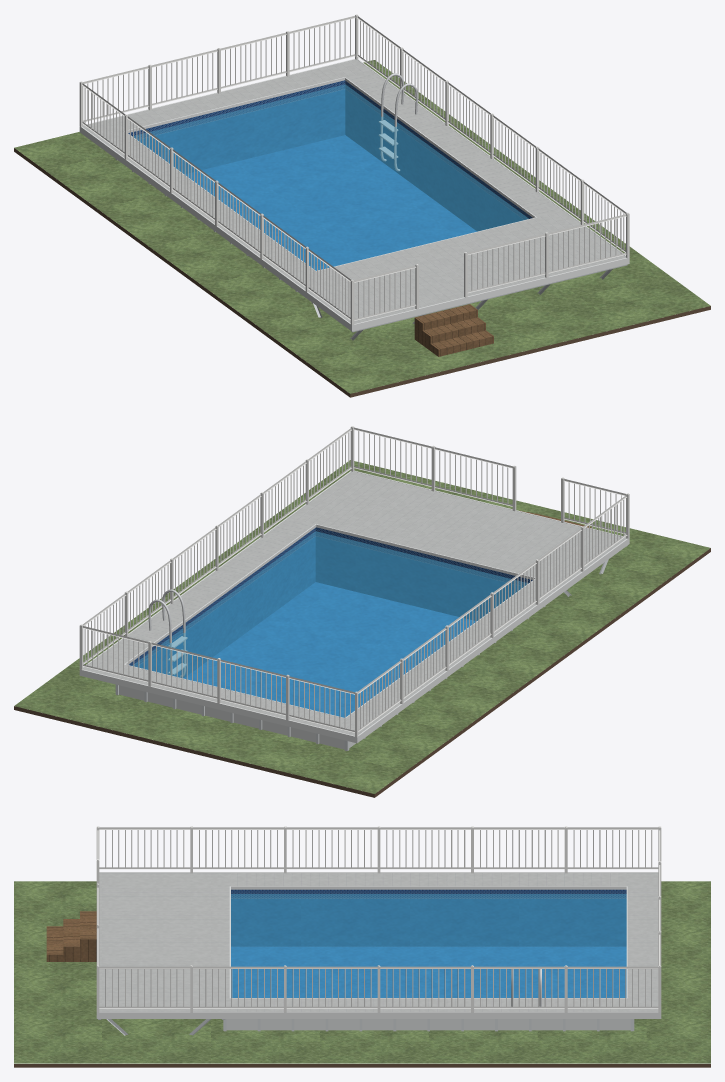
The model's file is kayak-pool-16x24-white-end-rec-fence.6da46cdbc4.glb.
3 views of the same model, one above another, from view 1: azimuth 30°, elevation 25°; view 2: azimuth 150°, elevation 25°; view 3: azimuth 270°, elevation 25° (orthographic). The views are drawn at different scales.
Visible parts, largest first — view 1: ground, water, deck, fence, liner_floor, liner_wall, fascia, soil, steps, steel, stud; view 2: ground, water, deck, fence, liner_floor, liner_wall, fascia, soil, wall, steel; view 3: ground, water, deck, liner_wall, fence, liner_floor, fascia, wall, soil, steps, upright.
Part boxes in pixels (x1,y1,x2,y2): ground: [14, 60, 710, 393]; water: [132, 84, 528, 270]; deck: [82, 59, 625, 323]; fence: [79, 14, 629, 325]; liner_floor: [185, 135, 476, 270]; liner_wall: [128, 80, 532, 231]; fascia: [79, 59, 629, 331]; soil: [14, 148, 710, 397]; steps: [414, 304, 493, 356]; steel: [378, 73, 417, 171]; stud: [291, 264, 627, 340]; ground: [14, 460, 710, 793]; water: [132, 531, 528, 717]; deck: [83, 471, 626, 735]; fence: [79, 426, 629, 736]; liner_floor: [184, 582, 475, 717]; liner_wall: [129, 527, 532, 678]; fascia: [79, 470, 629, 743]; soil: [14, 548, 710, 797]; wall: [119, 685, 355, 749]; steel: [148, 589, 187, 677]; ground: [14, 881, 710, 1063]; water: [231, 894, 626, 997]; deck: [99, 873, 658, 1011]; liner_wall: [231, 889, 626, 946]; fence: [96, 826, 661, 1012]; liner_floor: [231, 946, 626, 997]; fascia: [96, 872, 661, 1018]; wall: [226, 1019, 630, 1030]; soil: [14, 1064, 710, 1067]; steps: [46, 911, 96, 961]; upright: [223, 1019, 634, 1031].
Bounding box in the file's own units: 7.92 × 2.15 × 12.79.
13 materials, 5 textured.
